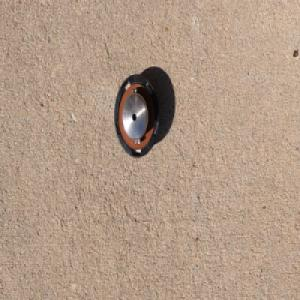FuelCap: (113, 71, 160, 160)
